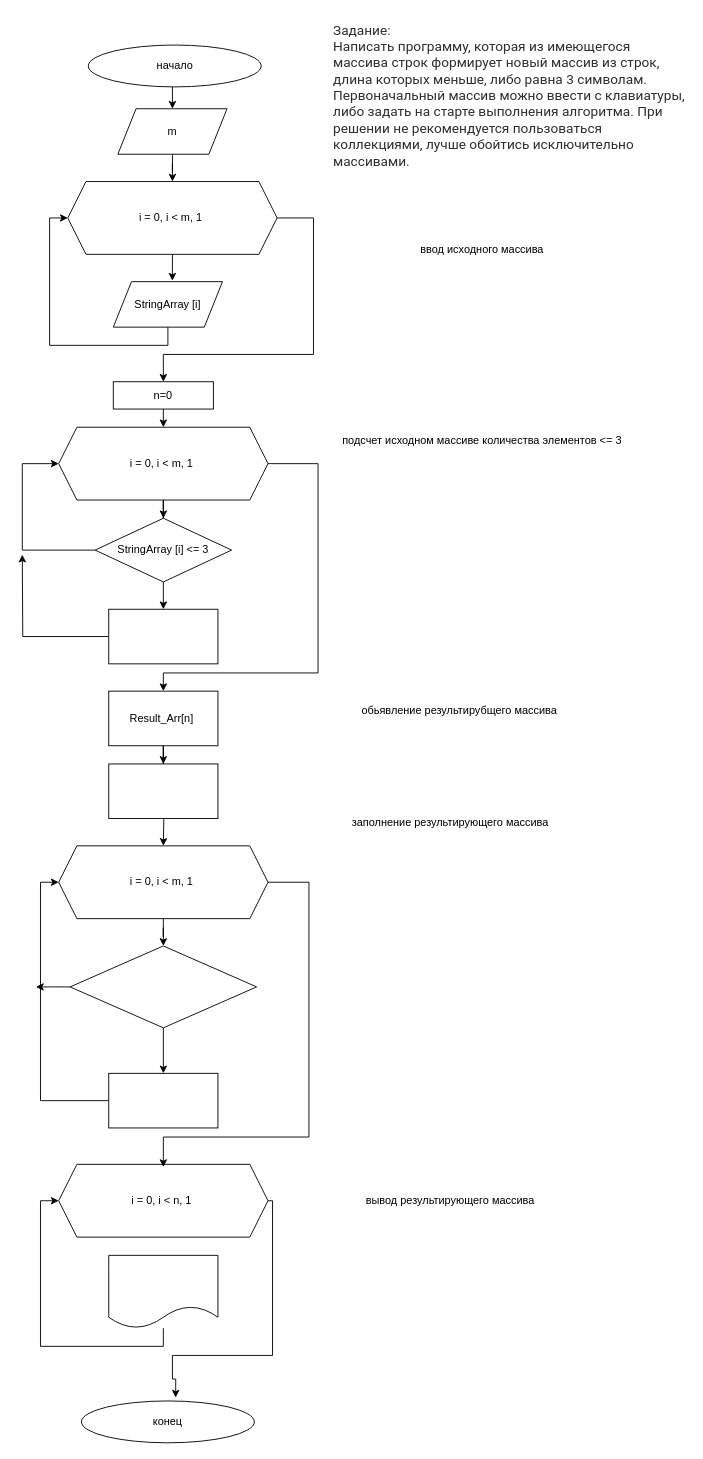
The diagram is 703 pixels wide and 1459 high, and some of its shapes have lost their labels. Each missing label, with the centre of its shape:
j = 0: (163,791)
n++: (163,636)
Result_Arr[i]: (163,1291)
Result_Arr[j] = StringArray[i] j++: (163,1100)
StringArray.Length [i] <= 3: (163,986)
